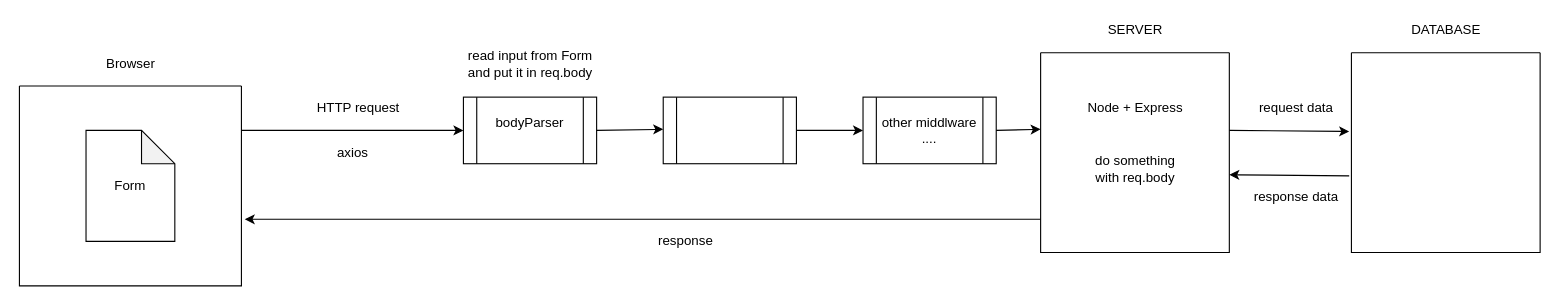
This 1560x305 diagram has some shape labels left out. The shapes that lost their labels are listed below. From the top down, each one's centre as x and y in pixels, then its label:
[729,130]: other middlware
[1445,152]: MongoDB + Mongoose do some queries
